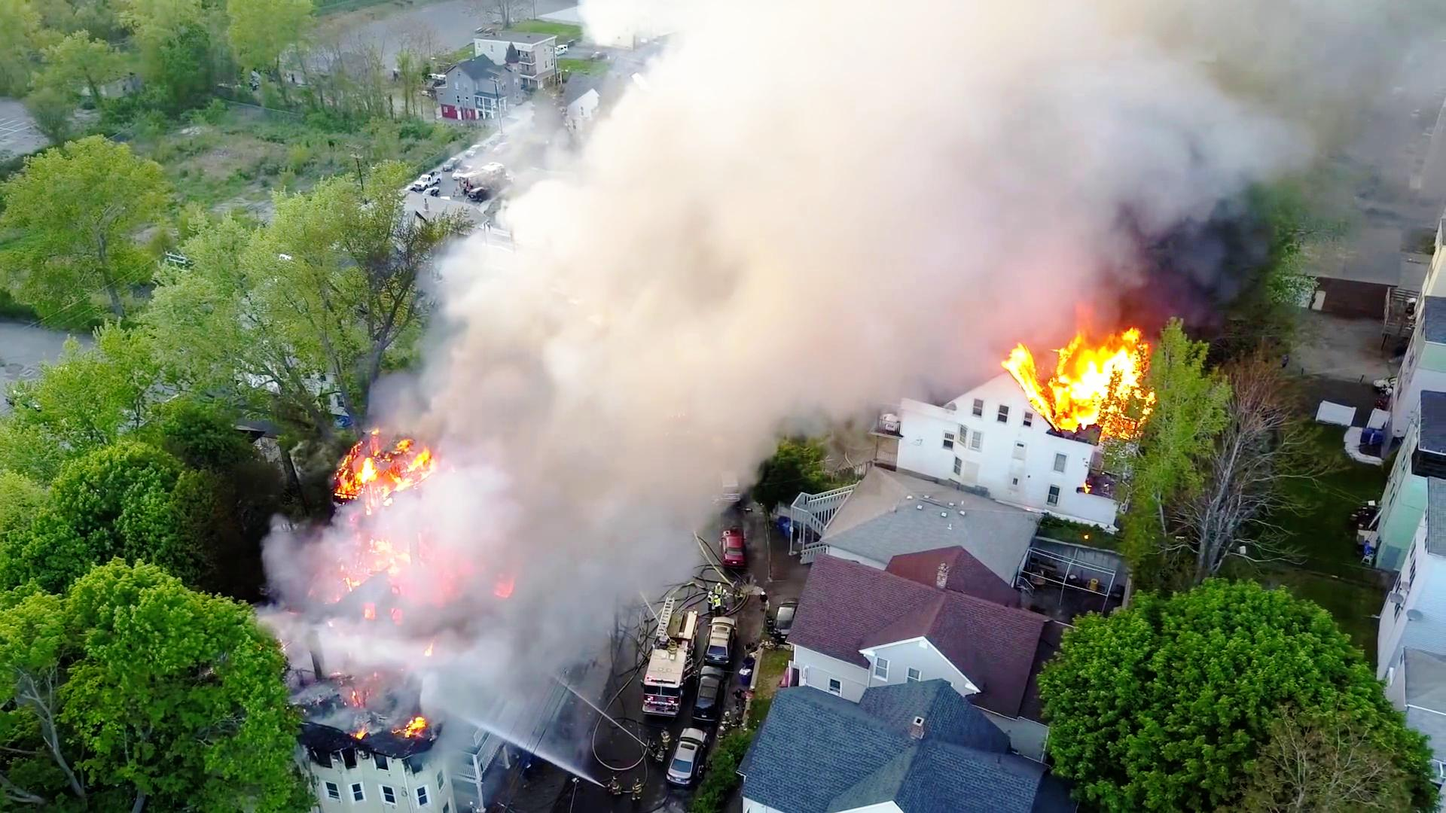fire: (1001, 306, 1157, 438), (351, 431, 460, 500), (373, 531, 435, 586)
